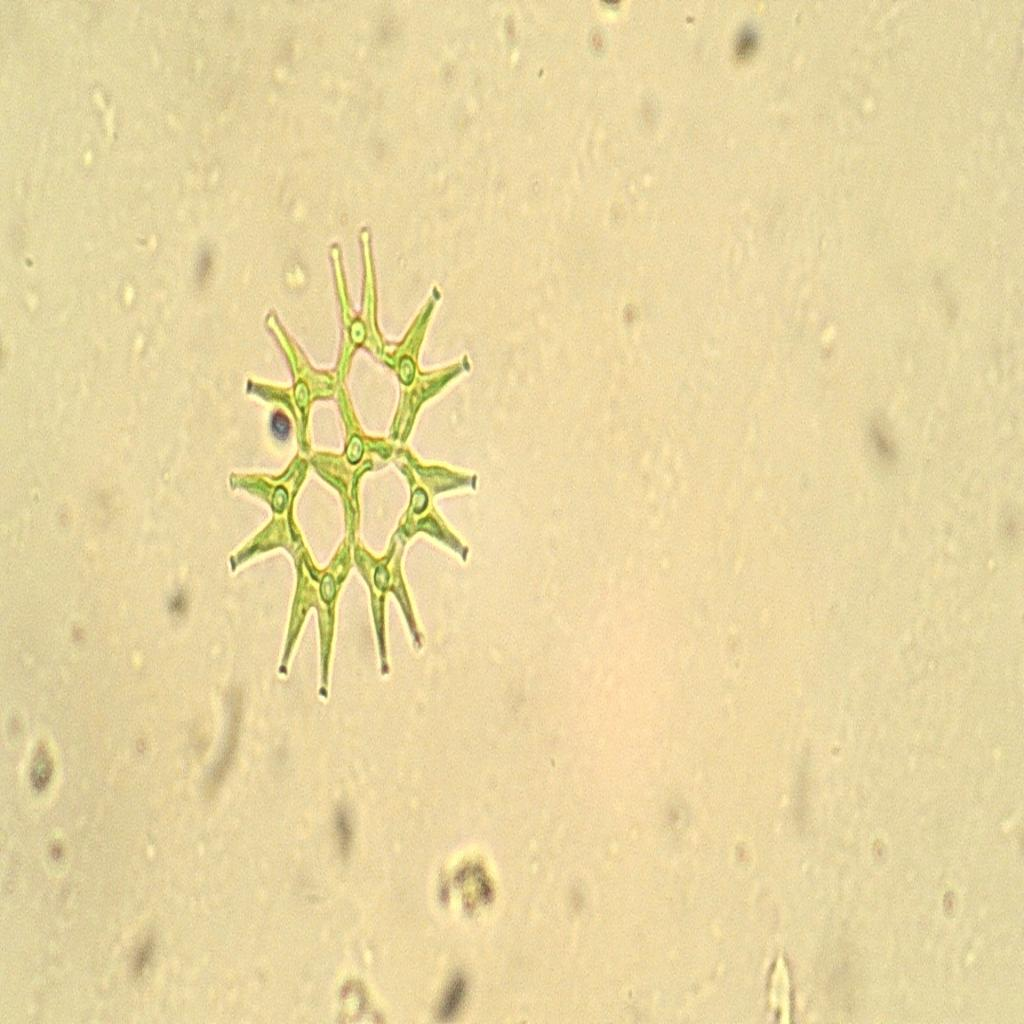Pediastrum_CTH: (218, 210, 499, 708)
